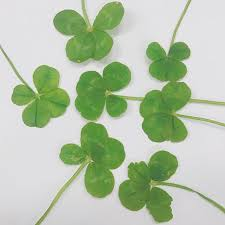4-clover: (60, 121, 128, 198), (118, 150, 179, 221), (55, 2, 123, 62), (10, 66, 70, 127), (139, 82, 193, 143), (77, 62, 130, 119), (146, 39, 194, 83)
